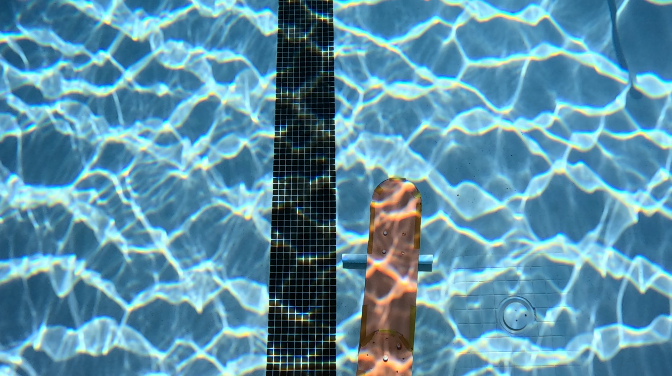pathmarker: (357, 177, 420, 375)
